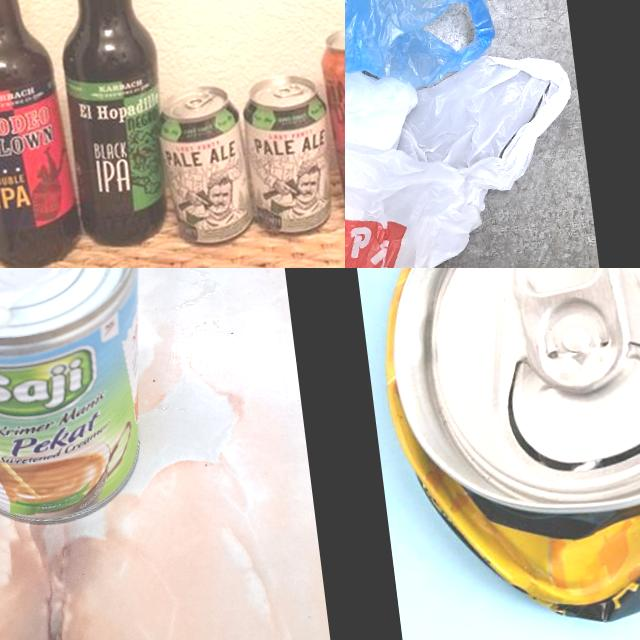aba de lata: (507, 268, 636, 403), (184, 88, 216, 109), (271, 82, 304, 98)
garrafa de vidro: (40, 0, 180, 252), (0, 0, 86, 268)
lata: (360, 268, 640, 640), (0, 268, 170, 539), (152, 80, 258, 248), (238, 70, 341, 238), (313, 16, 345, 231)
sacola plástica: (345, 13, 602, 268), (345, 0, 499, 120)
